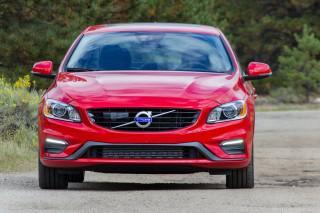volvo: (128, 107, 159, 132)
